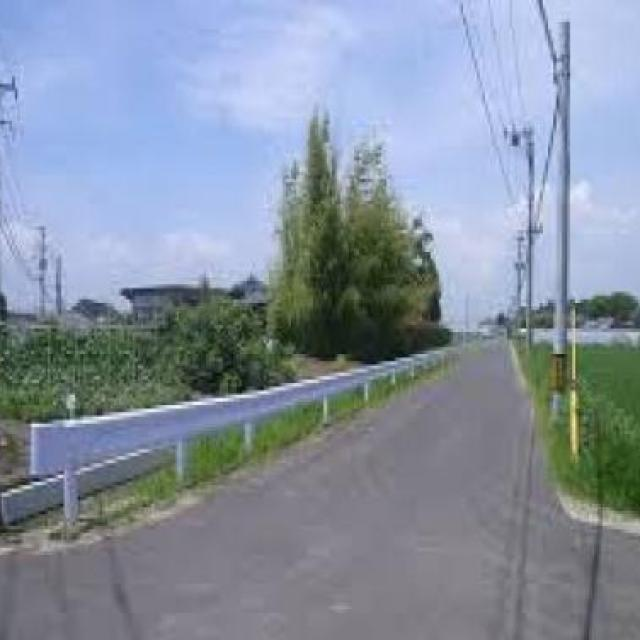Guard rail: (27, 339, 444, 536)
